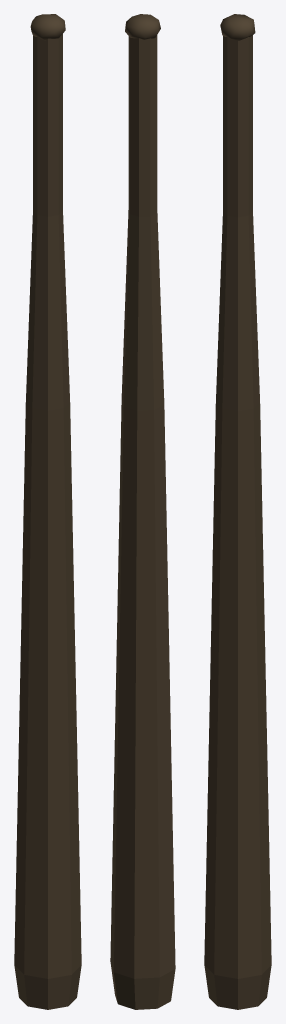
File: Bat_Low03.fbx
3 renders of one model, left to right at view 1: azimuth 90°, elevation 25°; view 2: azimuth 210°, elevation 25°; view 3: azimuth 270°, elevation 25°, orthographic.
Parts seen in each view (by area): view 1: Bat_Low03; view 2: Bat_Low03; view 3: Bat_Low03.
Part boxes in pixels (box(x1,y1,x2,y2)): Bat_Low03: box(14, 14, 81, 1009); Bat_Low03: box(110, 14, 175, 1009); Bat_Low03: box(204, 14, 271, 1009).
Size of the model in its own units: 11.25 by 182 by 11.25.
